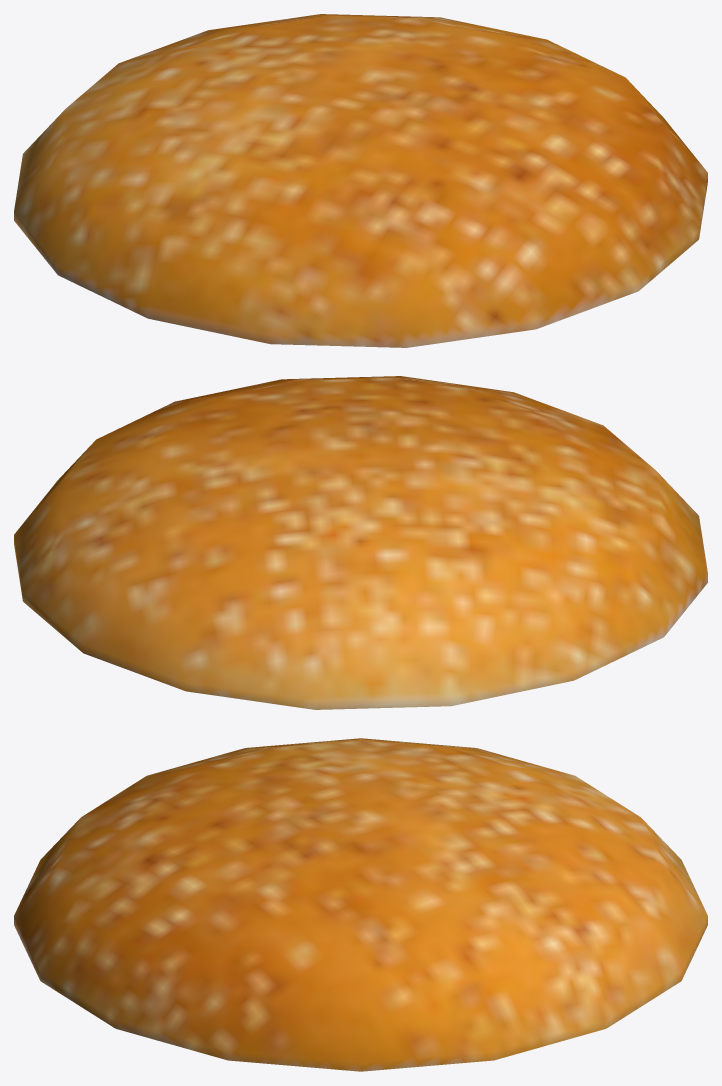
Rendered from bourger_roll.fbx.
3 views of the same model, one above another, from view 1: azimuth 30°, elevation 25°; view 2: azimuth 150°, elevation 25°; view 3: azimuth 270°, elevation 25° (orthographic).
Visible parts, largest first — view 1: bourger_roll; view 2: bourger_roll; view 3: bourger_roll.
Boxes of the visible parts, bbox=[...] form: bourger_roll: bbox=[14, 14, 707, 347]; bourger_roll: bbox=[14, 376, 707, 709]; bourger_roll: bbox=[14, 738, 707, 1071].
Size of the model in its own units: 11.98 by 2.21 by 11.98.
1 material, 1 textured.
